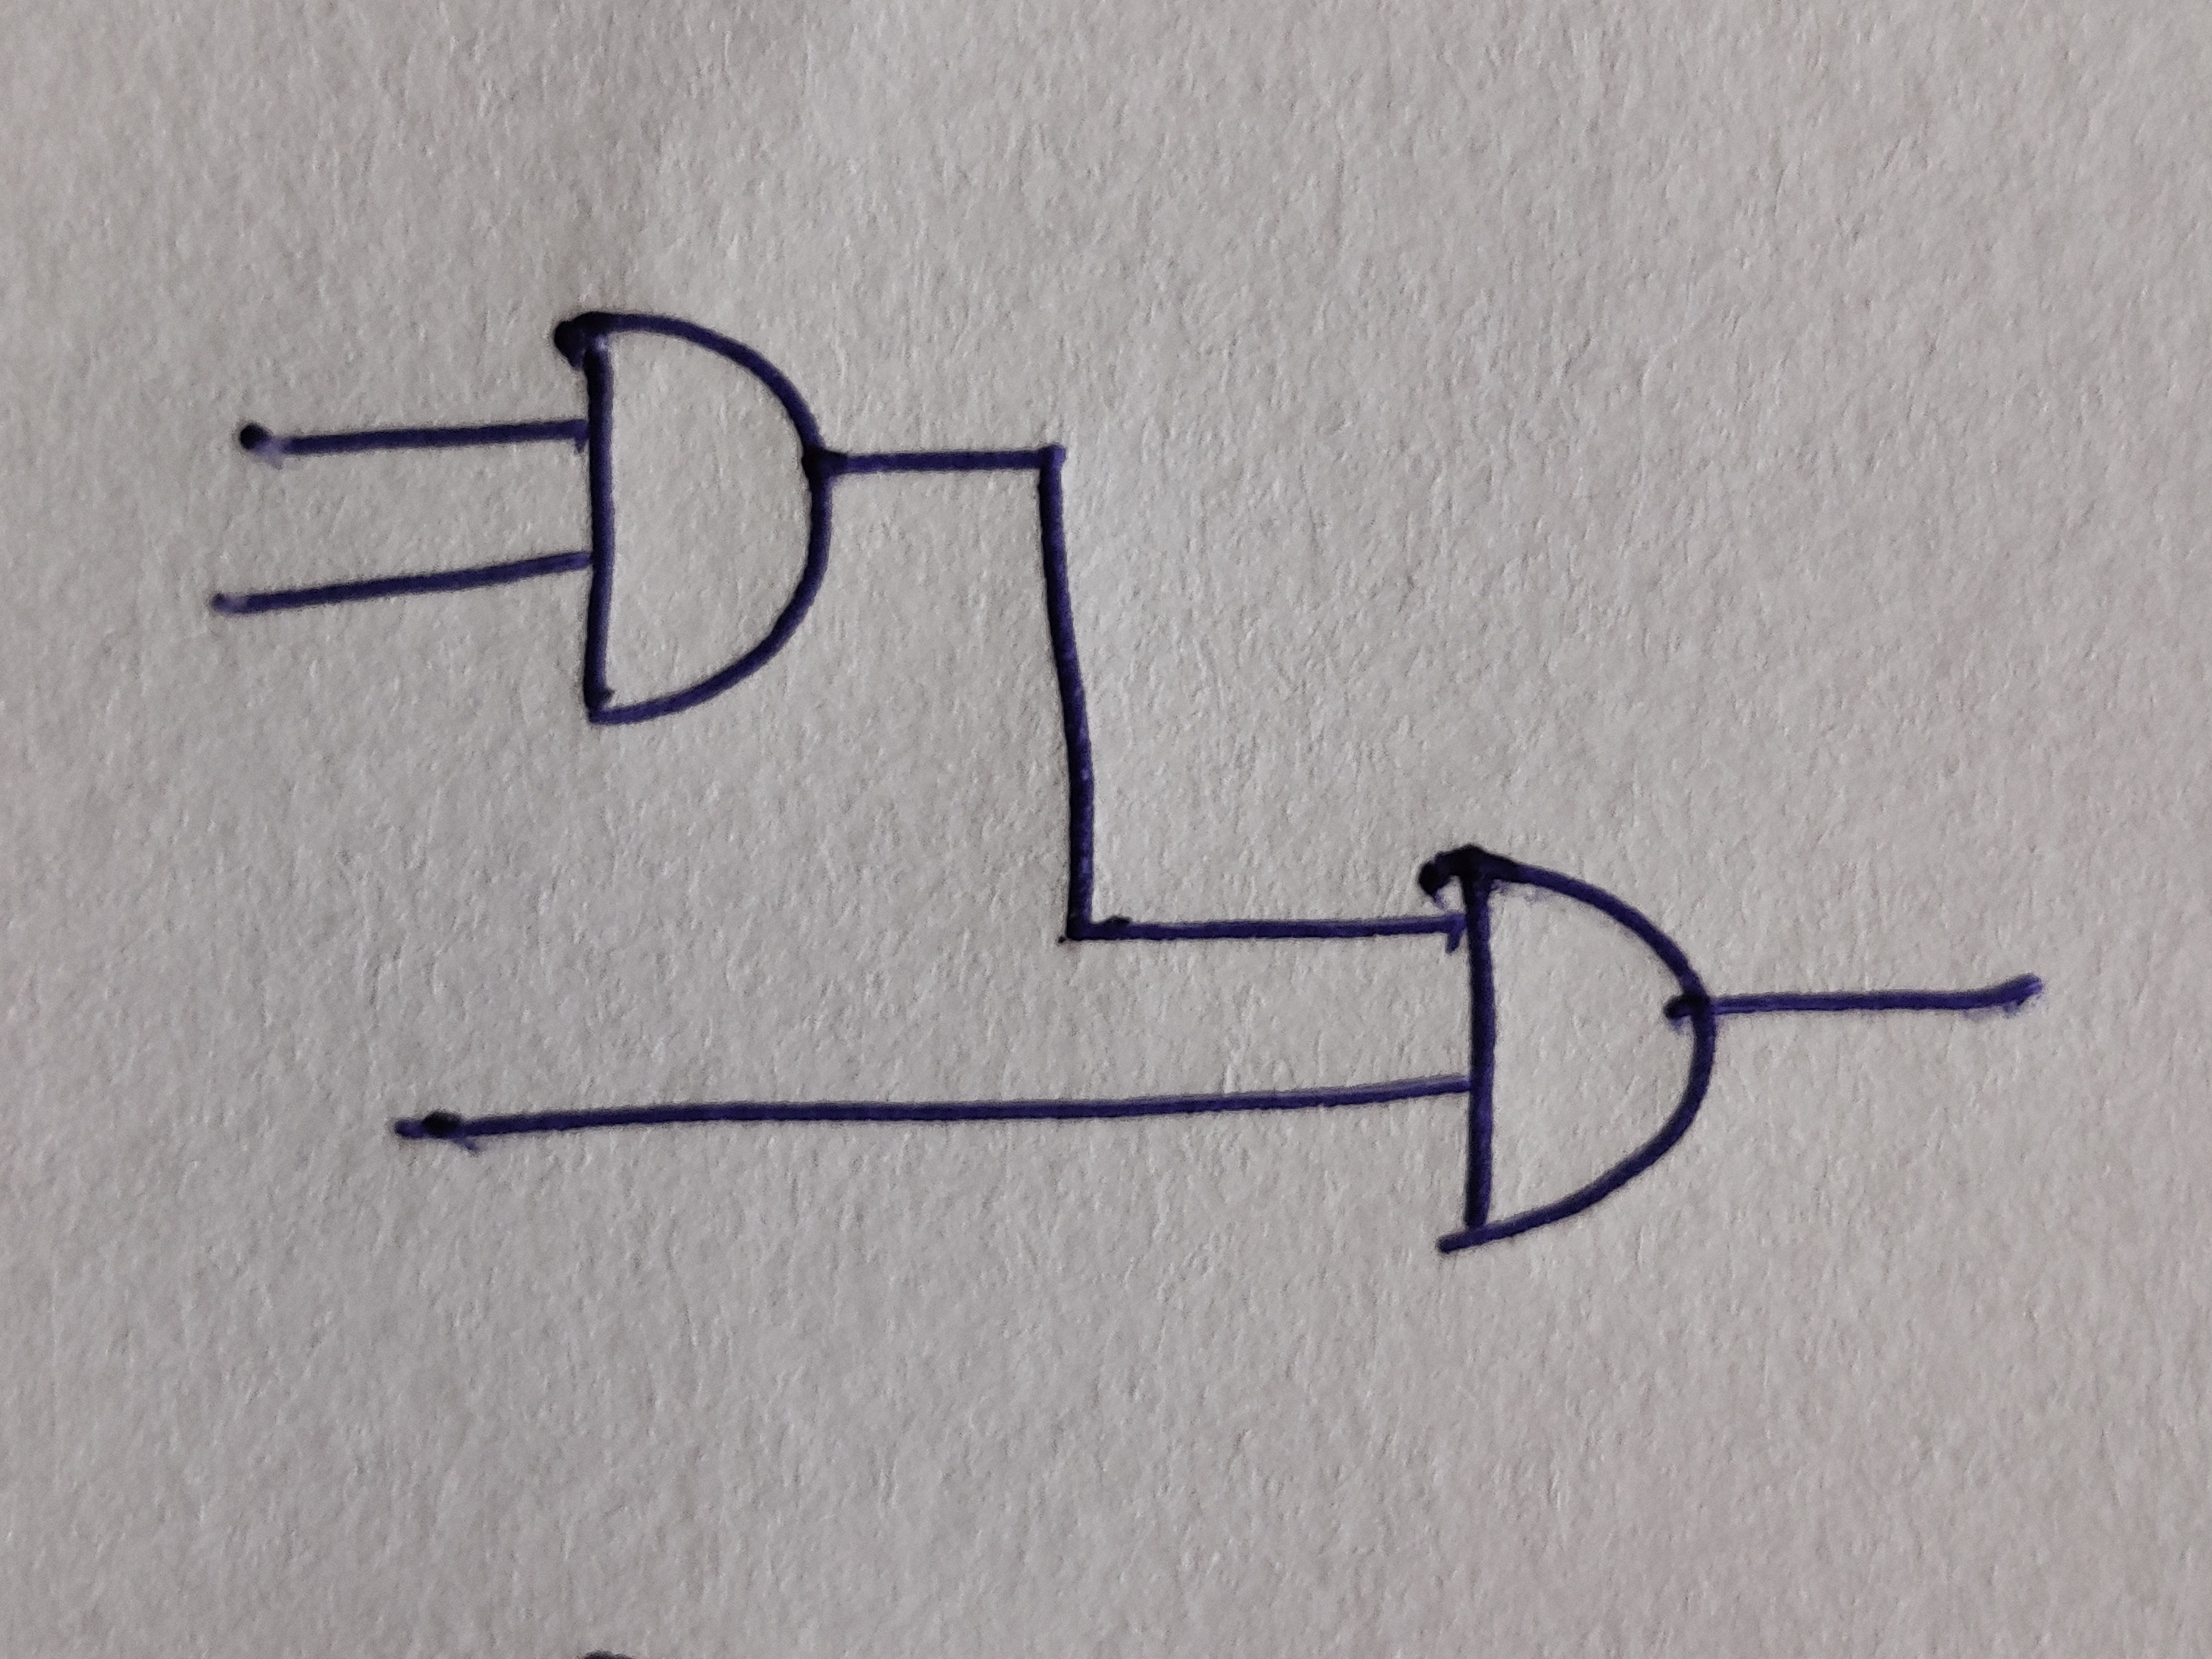and: (556, 310, 834, 725), (1460, 843, 1717, 1244)
